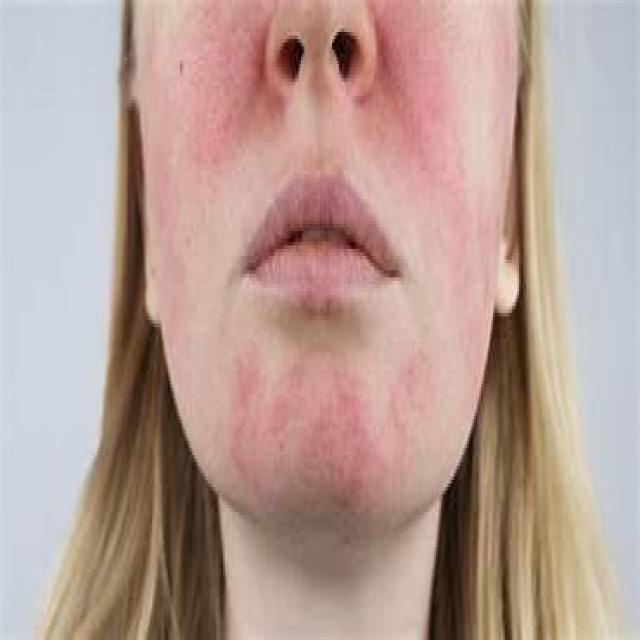Rosacea: (269, 389, 366, 489), (208, 14, 256, 141), (379, 12, 403, 101)
